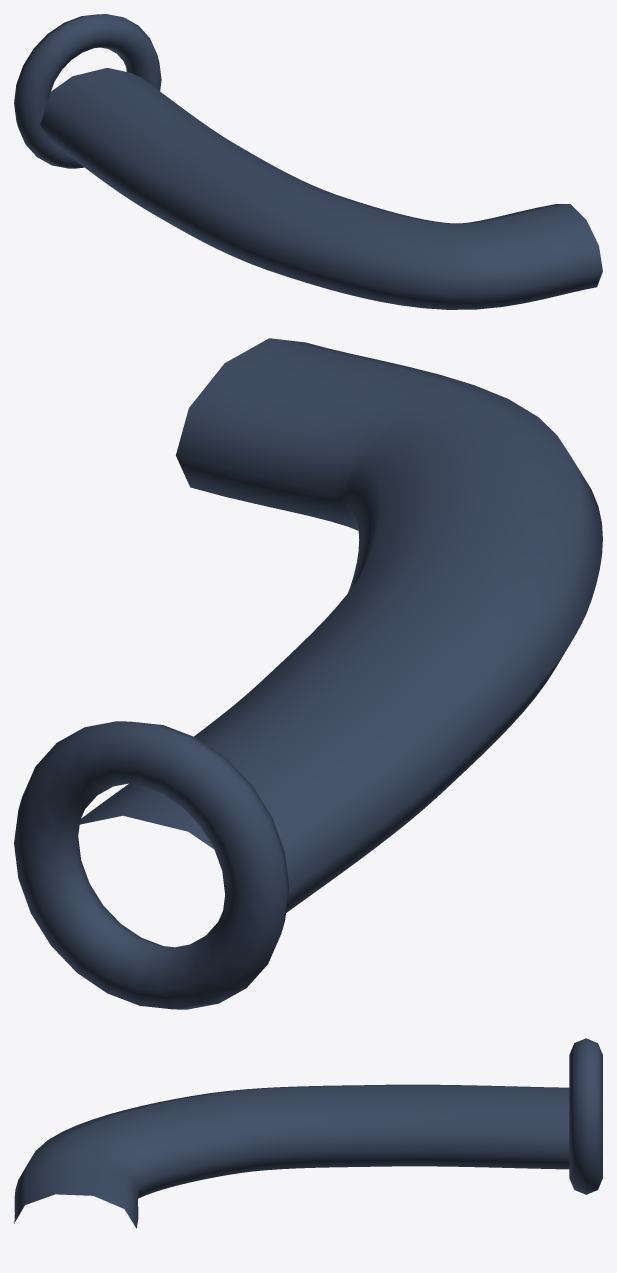
File: sock.glb
The picture shows the model from 3 angles, top to bottom: view 1: azimuth 30°, elevation 25°; view 2: azimuth 150°, elevation 25°; view 3: azimuth 270°, elevation 25°; orthographic projection. The views are drawn at different scales.
Visible parts, largest first — view 1: sockBody, sock; view 2: sockBody, sock; view 3: sockBody, sock.
Boxes of the visible parts, x1,y1,x2,y2 form: sockBody: (40,68,602,309); sock: (14,14,161,168); sockBody: (78,338,602,912); sock: (14,721,289,1009); sockBody: (14,1084,569,1228); sock: (569,1038,602,1194).
Size of the model in its own units: 0.1154 by 0.056 by 0.2099.
